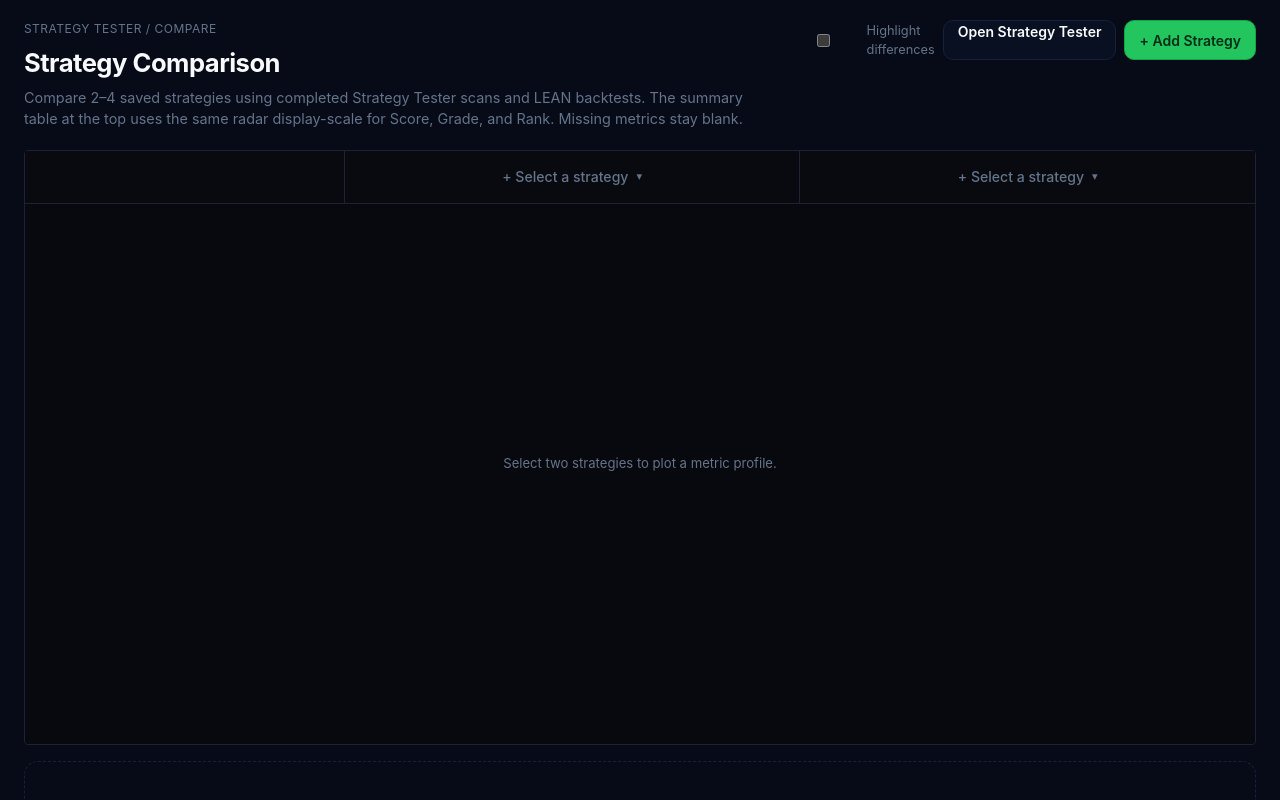
Test: StrategyComparisonPage › adds and removes a strategy slot
Expected: the element with test id "sc-slots" is shown, [25, 151, 1255, 204]
What coordinates should you click on to do the following:
click the button with test id "sc-add-strategy"
I would click on:
 (1190, 40)
Its box is [1124, 20, 1256, 60].
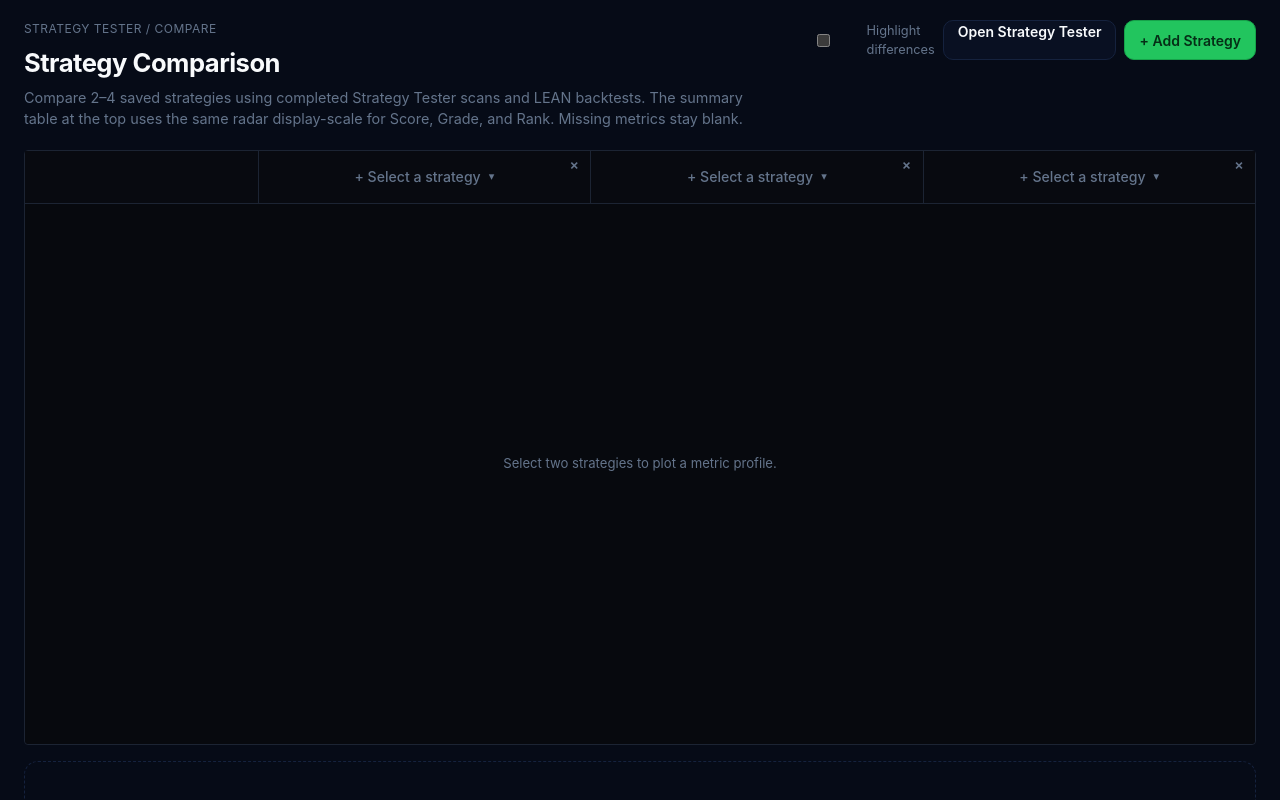
Now the element with test id "sc-slot-2" is shown, box [923, 151, 1255, 203]
What coordinates should you click on to do the following:
click the button with test id "sc-remove-2"
I would click on:
 (1239, 165)
Its box is [1229, 155, 1249, 175].
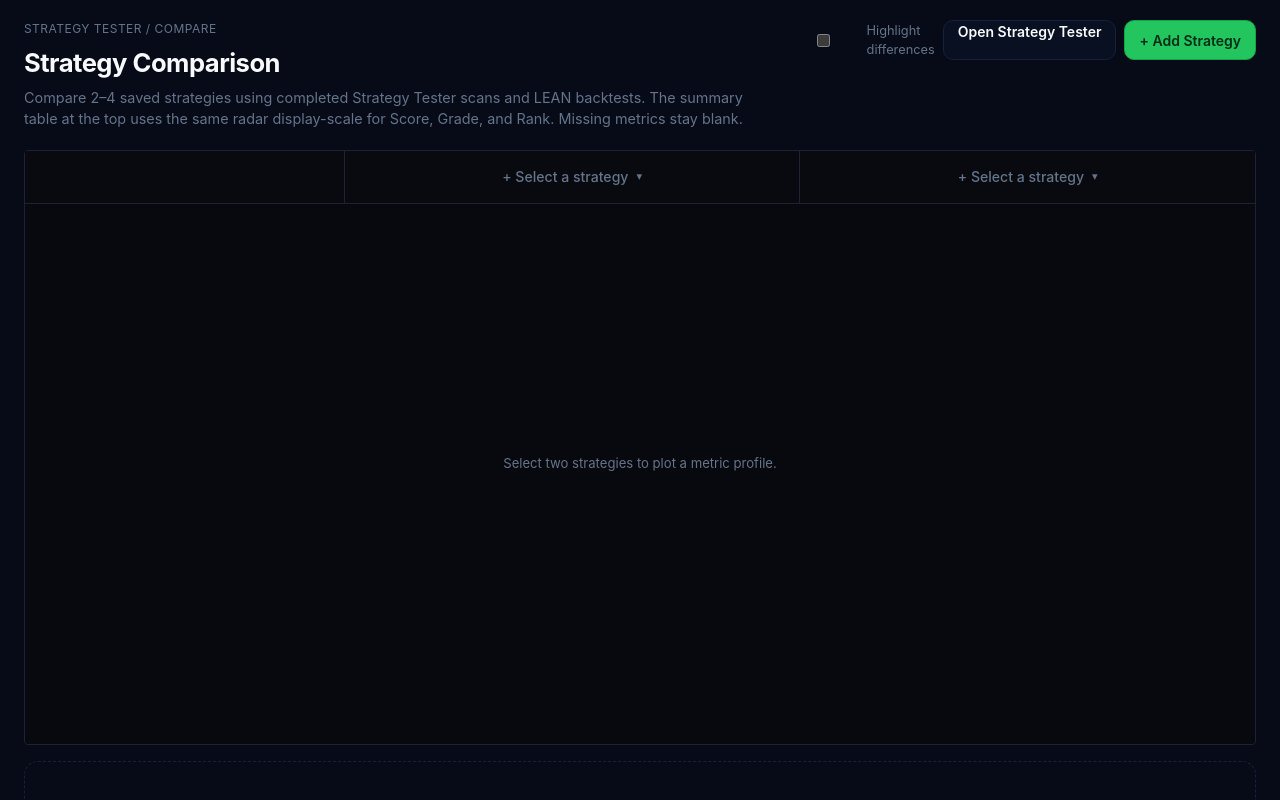
Now the element with test id "sc-slot-2" is gone
